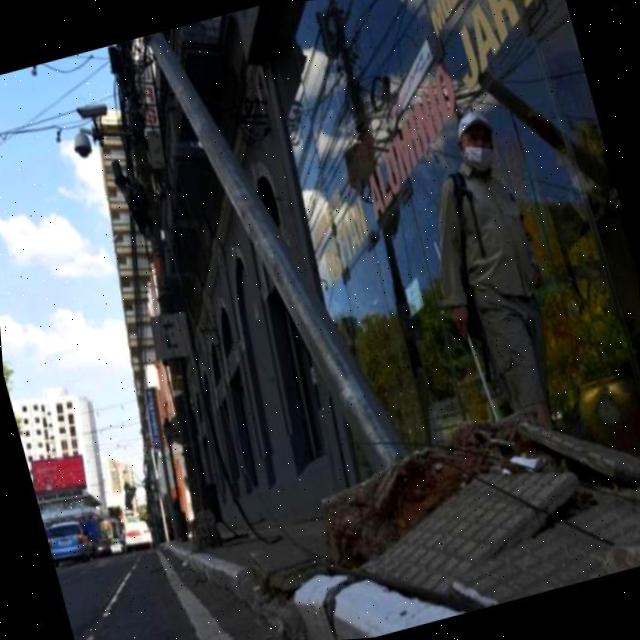Broken Pole: (145, 34, 414, 469)
